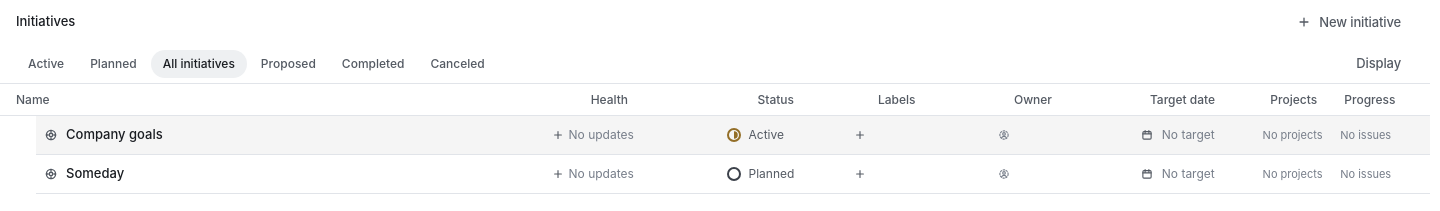
Scenario: Initiatives table › switches the filter from the pills
Click the button "Planned".
click(113, 64)  # box [78,50,149,78]
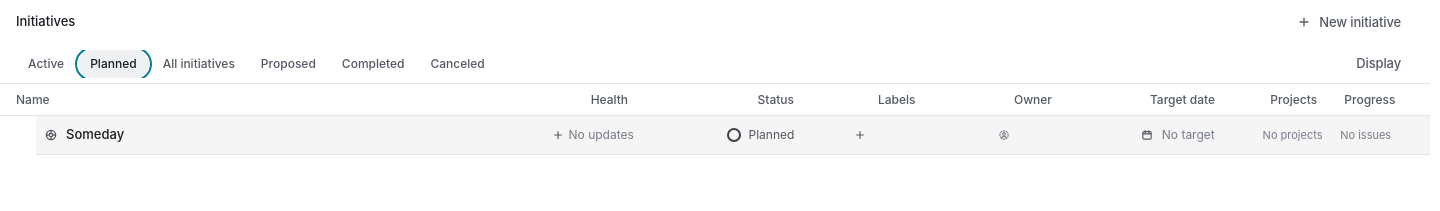
Check: the text "Someday" is shown, box [66,125,124,145]
Check: the link "Company goals" is gone
